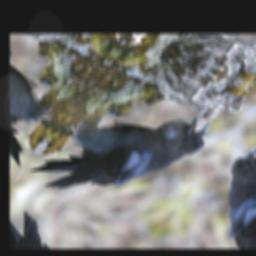Crow: (23, 73, 220, 229)
